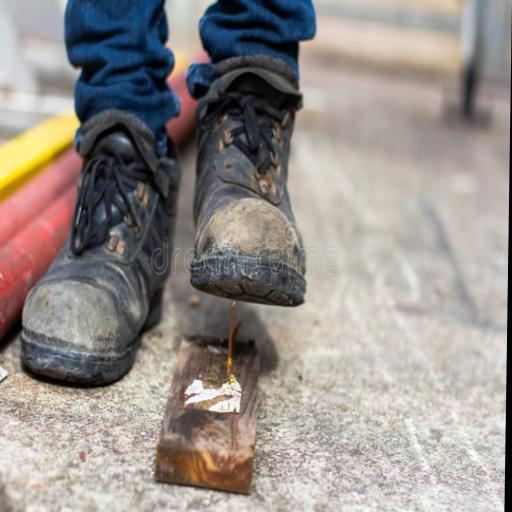safety_boots: (12, 122, 158, 386), (181, 91, 312, 314)
